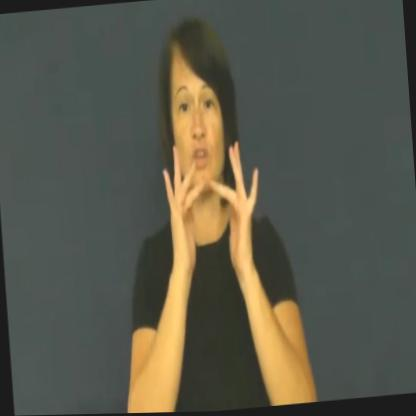Internet: (160, 130, 260, 306)
